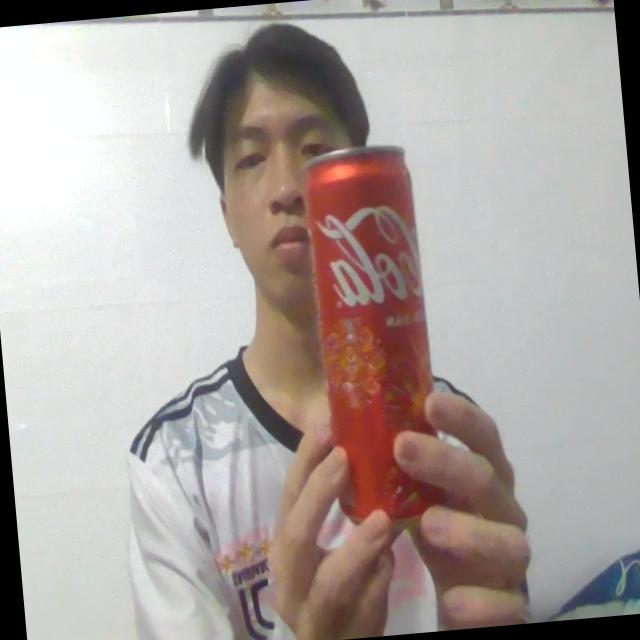cocacola: (292, 128, 459, 546)
